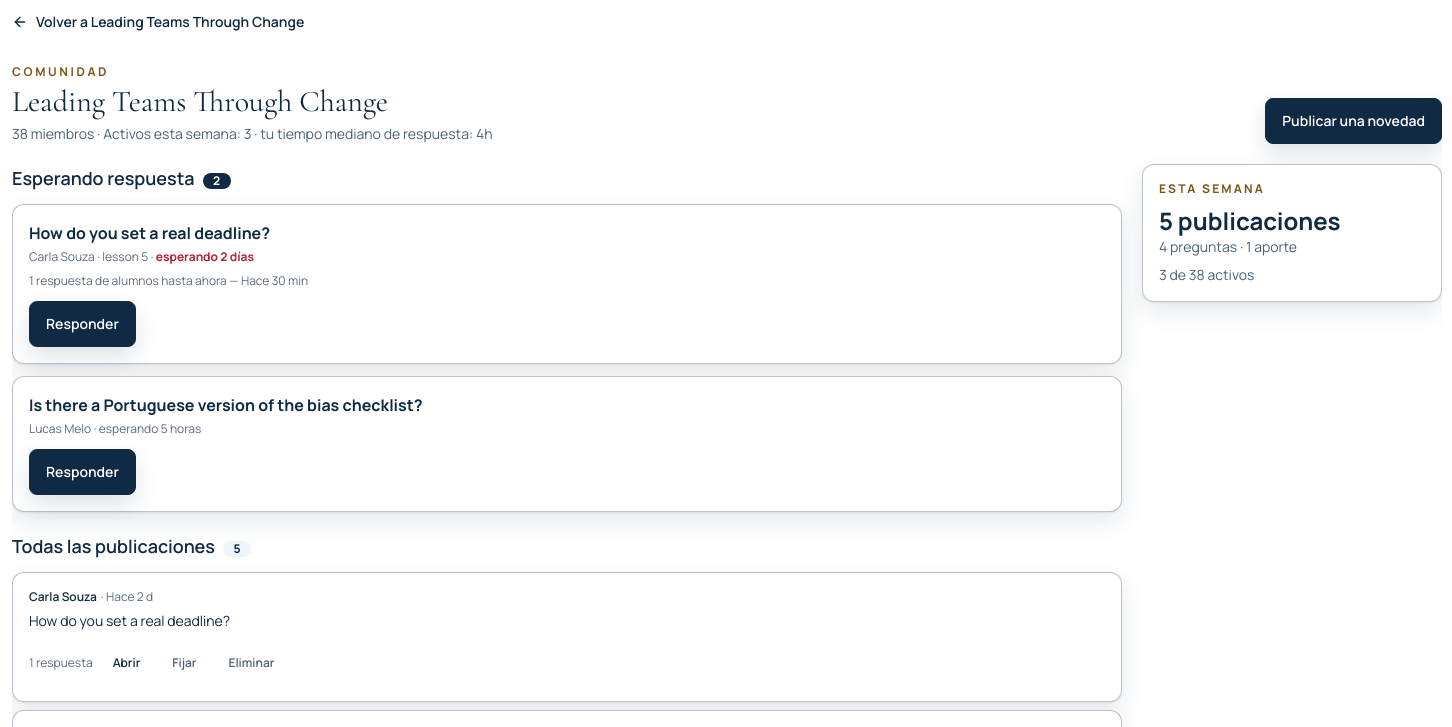
caixa de entrada da comunidade (professor) › teto por hora do banco no aviso: a mesma mensagem, em espanhol, sem fixar nada
Click the button "Publicar una novedad" at [1354, 121], box [1265, 98, 1442, 144]
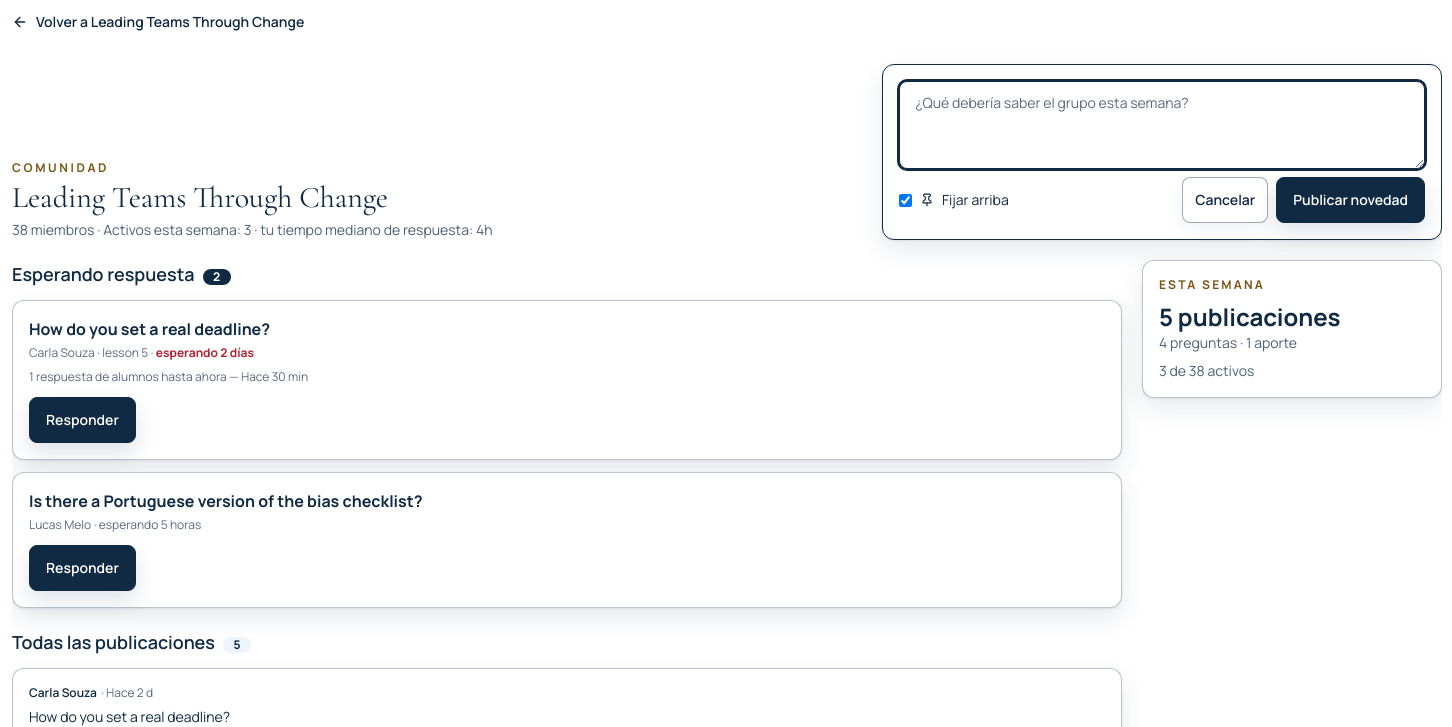
Type "This week: persuasion you can defend." into the text box with placeholder "¿Qué debería saber el grupo esta semana?" at [1162, 125], box [899, 81, 1425, 169]
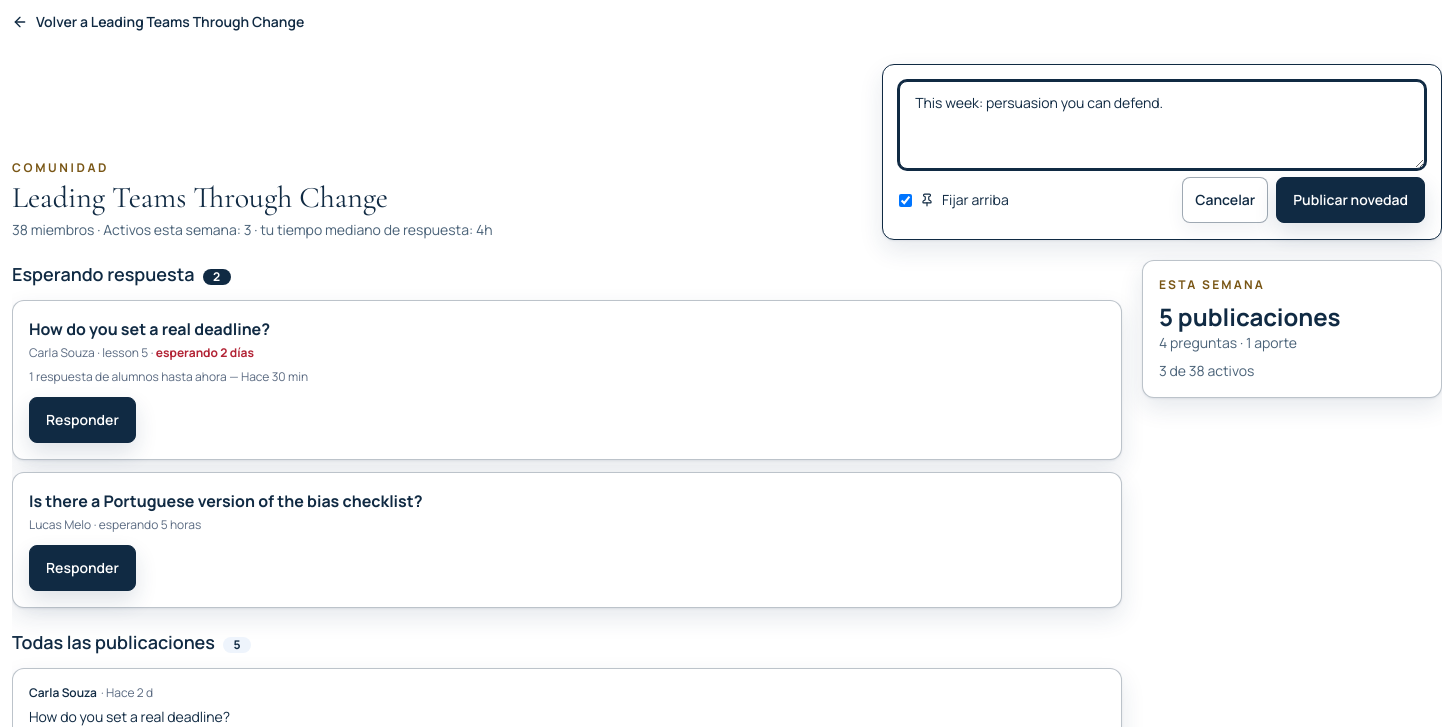
Click the button "Publicar novedad" at [1351, 200], box [1276, 177, 1425, 223]
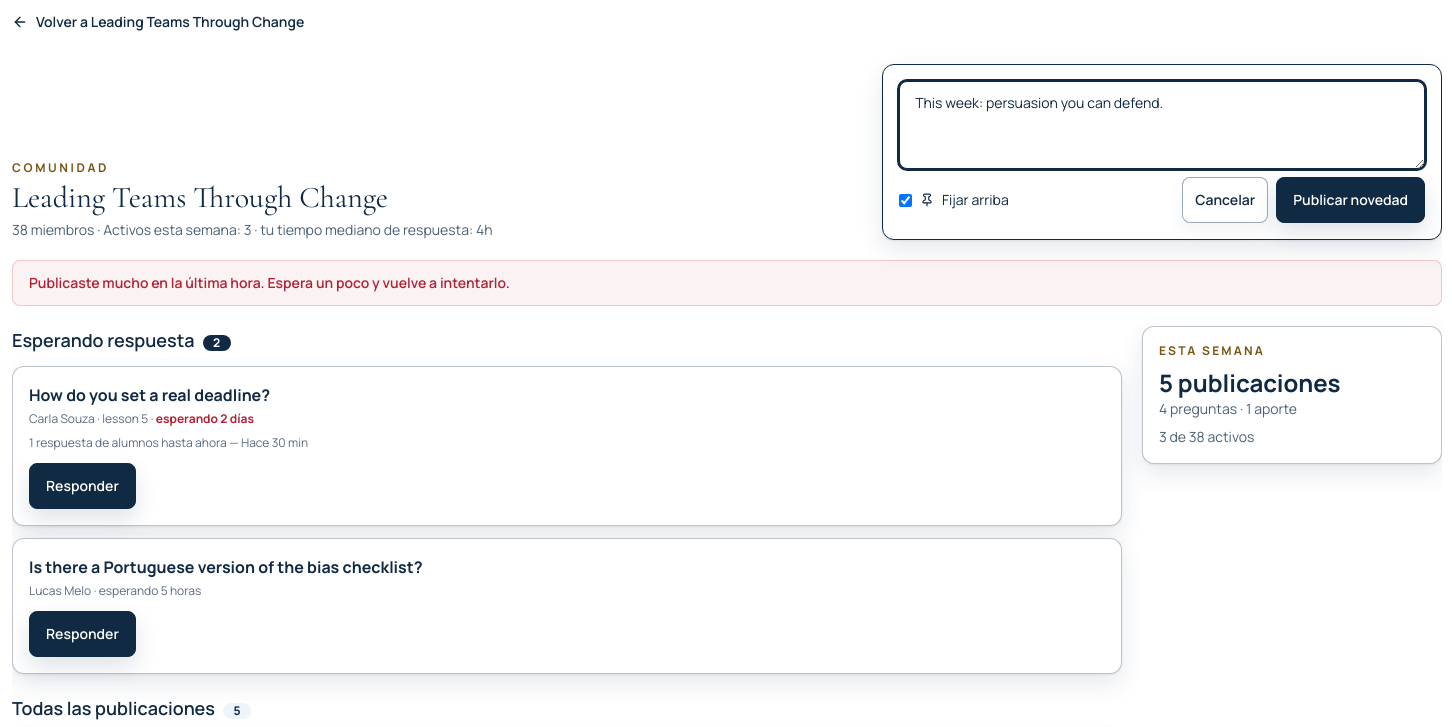
Expected: the text "Publicaste mucho en la última hora. Espera un poco y vuelve a intentarlo." is shown, [12, 260, 1442, 306]
